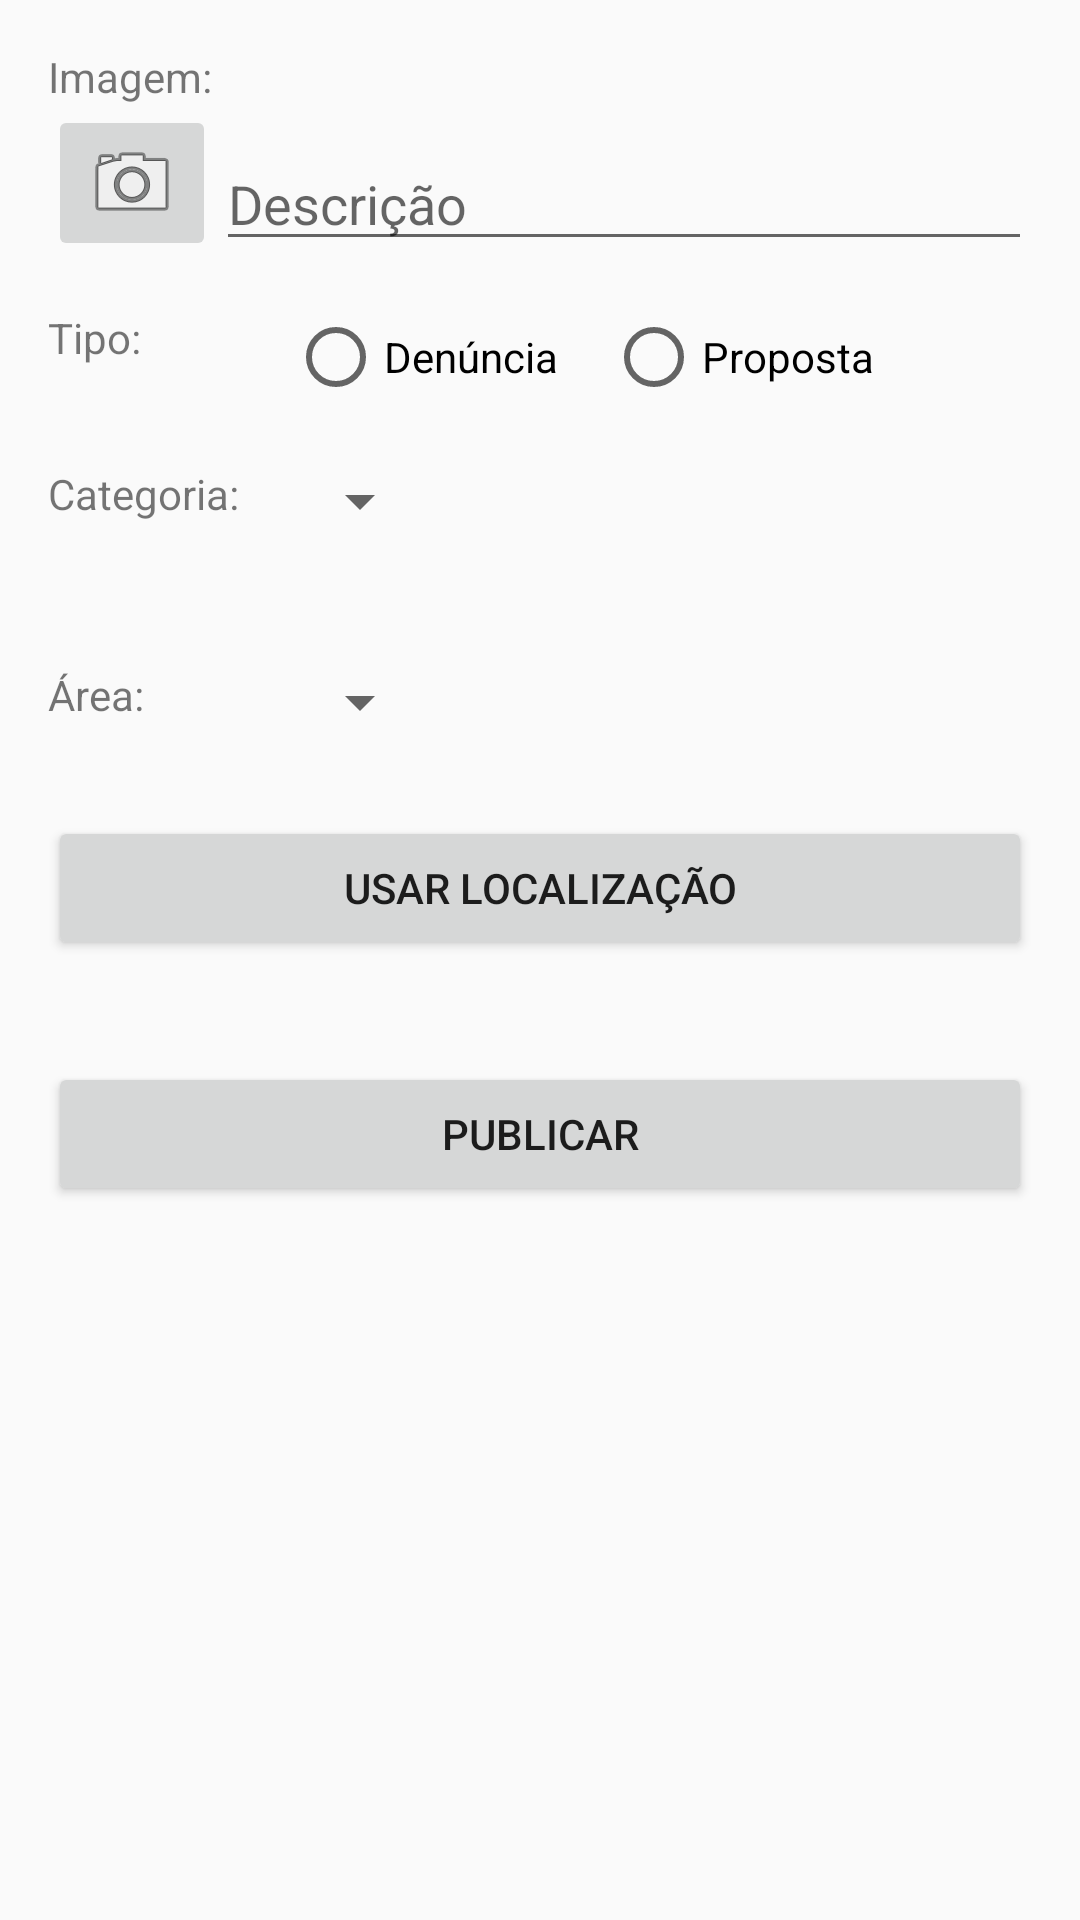

Named icons in this screenshot (1080*1920) and their bounding boxes, bbox(x1, y1, x2, y2):
camera: bbox(60, 123, 204, 243)
